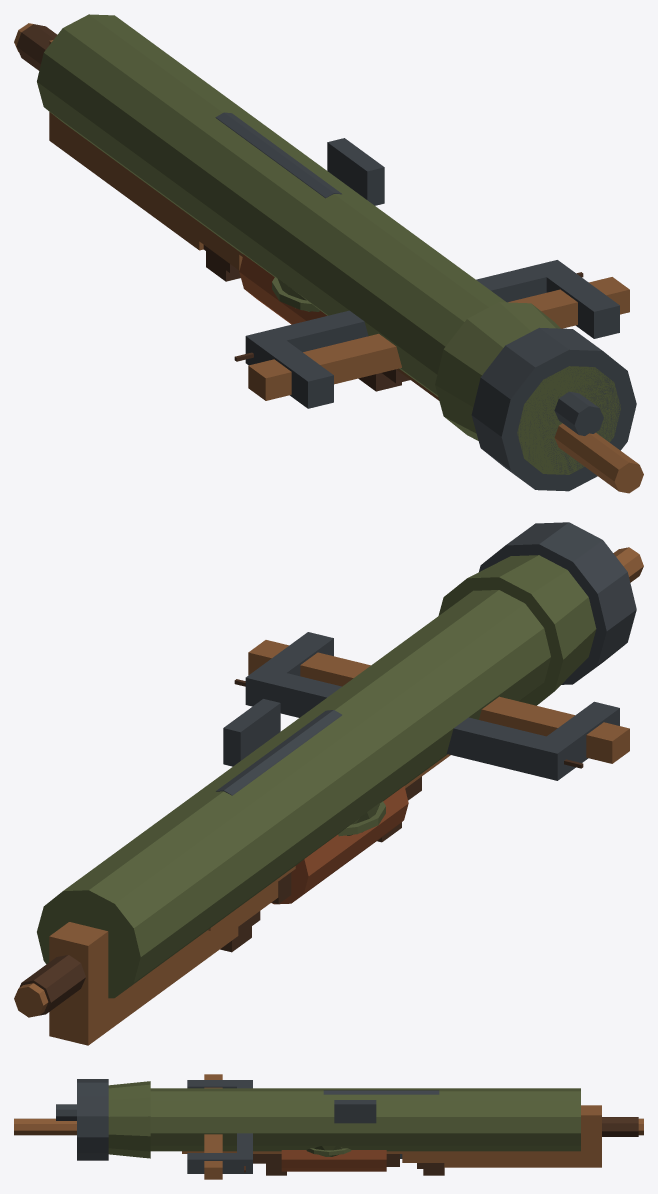
Rendered from weapons.glb.
The picture shows the model from 3 angles, top to bottom: view 1: azimuth 30°, elevation 25°; view 2: azimuth 150°, elevation 25°; view 3: azimuth 270°, elevation 25°; orthographic projection. The views are drawn at different scales.
Visible parts, largest first — view 1: launcher, orb, bolt, longshot, stick, flamer, shotgun, grenade; view 2: launcher, orb, longshot, bolt, flamer, stick, shotgun; view 3: launcher, longshot, flamer, orb, stick, bolt, shotgun, grenade, repeater.
Part boxes in pixels (left/top/right/bottom): launcher: left=37, top=14, right=636, bottom=491; orb: left=168, top=200, right=619, bottom=408; bolt: left=167, top=199, right=629, bottom=400; longshot: left=49, top=40, right=603, bottom=435; stick: left=14, top=23, right=643, bottom=493; flamer: left=207, top=252, right=409, bottom=383; shotgun: left=119, top=164, right=242, bottom=270; grenade: left=272, top=277, right=319, bottom=311; launcher: left=37, top=522, right=636, bottom=998; orb: left=210, top=632, right=619, bottom=930; longshot: left=49, top=710, right=341, bottom=1045; bolt: left=208, top=640, right=629, bottom=930; flamer: left=238, top=776, right=421, bottom=935; stick: left=14, top=547, right=643, bottom=1017; shotgun: left=158, top=882, right=278, bottom=984; launcher: left=77, top=1079, right=580, bottom=1175; longshot: left=56, top=1090, right=601, bottom=1167; flamer: left=253, top=1150, right=440, bottom=1171; orb: left=187, top=1080, right=475, bottom=1173; stick: left=14, top=1117, right=643, bottom=1136; bolt: left=182, top=1074, right=475, bottom=1179; shotgun: left=400, top=1151, right=528, bottom=1162; grenade: left=306, top=1146, right=351, bottom=1156; repeater: left=386, top=1154, right=399, bottom=1166.
Size of the model in its own units: 0.42 by 0.188 by 1.2.
